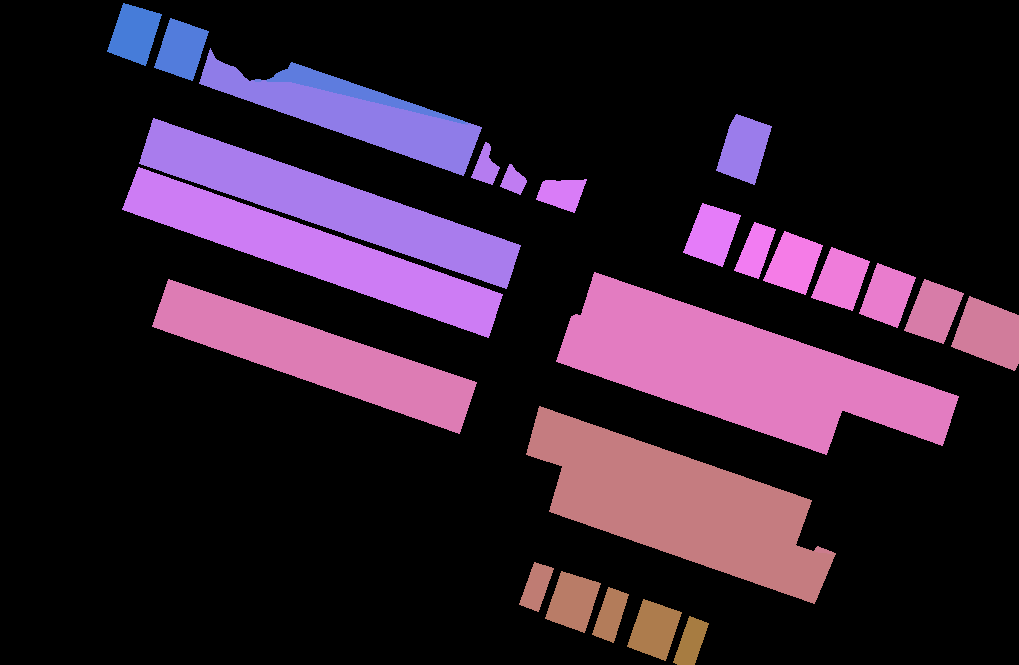parkingspot: (580, 272, 958, 445), (139, 118, 520, 288), (122, 167, 502, 337), (152, 279, 476, 433), (556, 314, 843, 454), (549, 464, 835, 603), (526, 406, 811, 542), (199, 48, 481, 175), (951, 296, 1019, 370), (716, 114, 771, 184), (904, 279, 963, 343), (763, 231, 822, 294), (811, 247, 869, 310), (683, 203, 740, 266), (859, 263, 915, 327), (545, 571, 600, 632), (154, 18, 208, 80), (107, 3, 161, 65), (627, 599, 681, 660), (734, 222, 775, 278), (592, 587, 628, 642), (673, 616, 708, 665), (519, 562, 553, 611), (536, 179, 586, 212), (471, 142, 499, 184), (500, 164, 526, 194)
